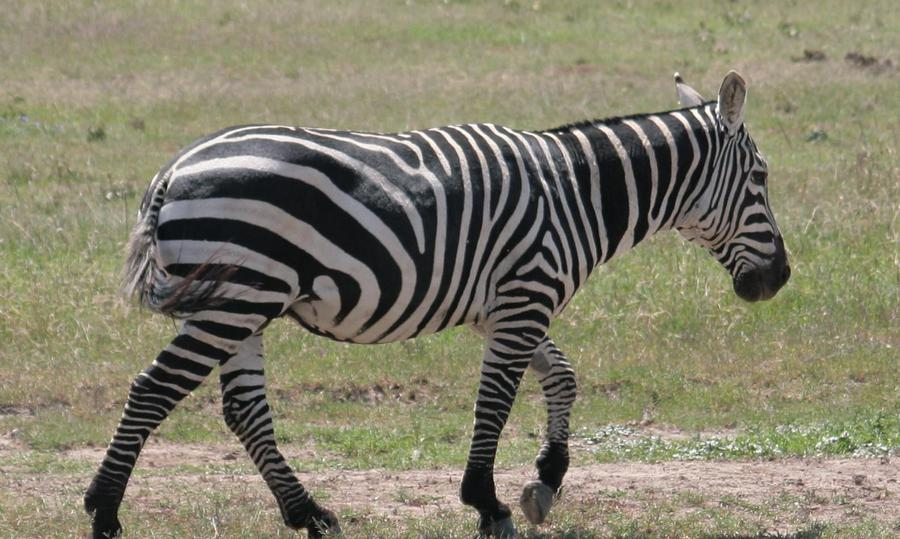zebra_plains: (136, 86, 621, 378)
